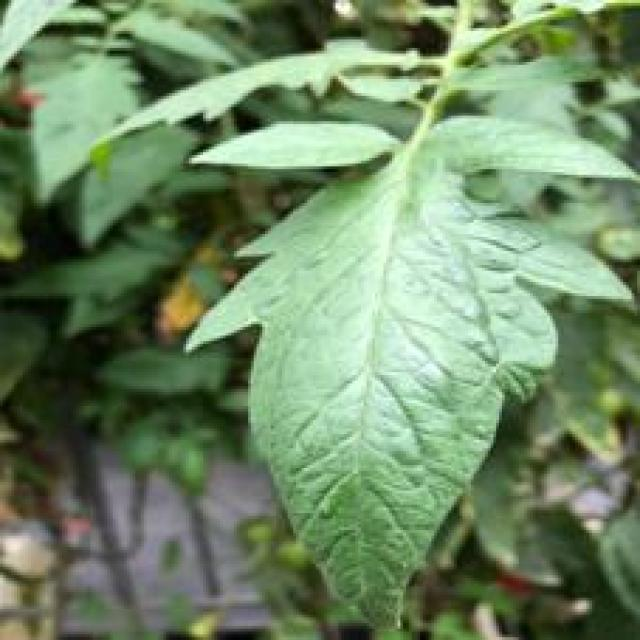Healthy Leaf: (180, 118, 640, 640)
